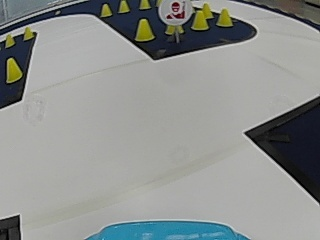evil: (158, 0, 193, 25)
